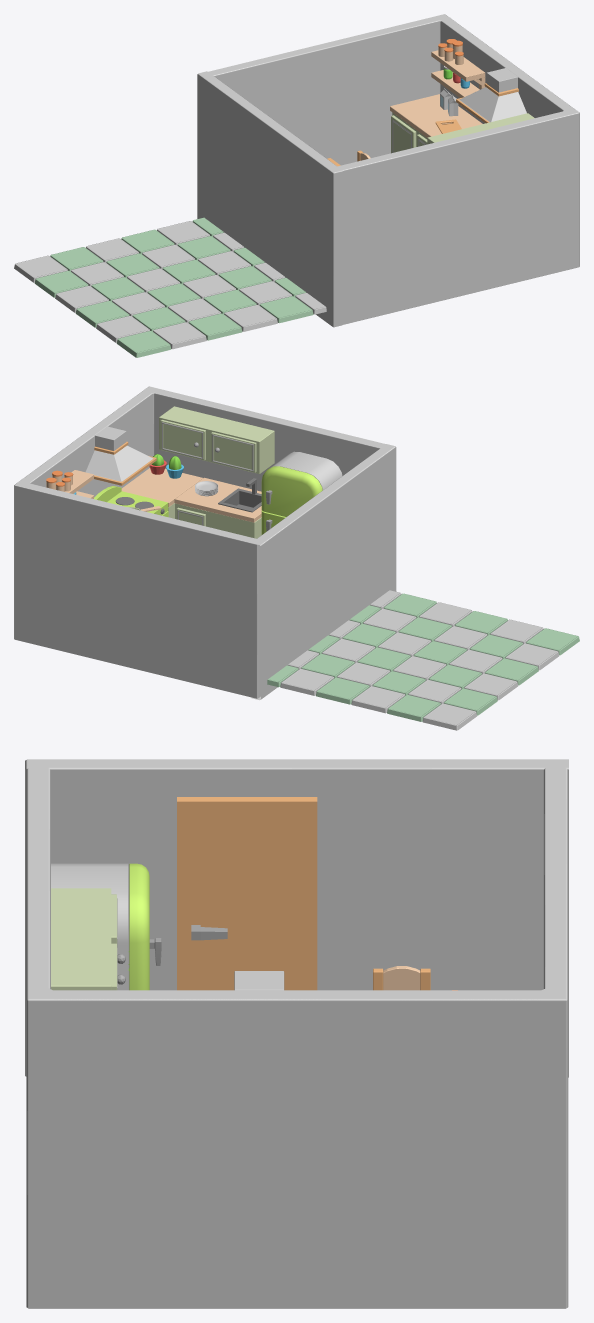
The model's file is Kitchen.gltf.
3 renders of one model, top to bottom at view 1: azimuth 30°, elevation 25°; view 2: azimuth 150°, elevation 25°; view 3: azimuth 270°, elevation 25°, orthographic. The views are drawn at different scales.
Visible parts, largest first — view 1: Wall, Floor tile, Wall.002, Wall.001, Counter, Hood, Wall shelf, Hang shelf.001, Wood jar, Hang shelf; view 2: Wall.001, Floor tile, Wall.002, Wall, Wall shelf, Fridge, Counter with sink, Hood, Counter corner, Stove, Wood jar; view 3: Wall, Wall.001, Wall.002, Cube, Wall shelf, Fridge, Chair.001, Hood.
Boxes of the visible parts, box(x1,y1,x2,y2) form: Wall: box(332, 18, 579, 324); Floor tile: box(14, 217, 326, 357); Wall.002: box(197, 71, 342, 327); Wall.001: box(208, 14, 572, 165); Counter: box(390, 94, 482, 153); Hood: box(456, 68, 526, 123); Wall shelf: box(427, 113, 534, 144); Hang shelf.001: box(431, 50, 485, 89); Wood jar: box(438, 39, 463, 64); Hang shelf: box(431, 70, 479, 97); Wall.001: box(14, 391, 260, 698); Floor tile: box(267, 590, 579, 730); Wall.002: box(250, 444, 396, 700); Wall: box(24, 386, 391, 497); Wall shelf: box(159, 406, 274, 473); Fridge: box(261, 451, 342, 534); Counter with sink: box(174, 477, 261, 538); Hood: box(85, 426, 156, 485); Counter corner: box(121, 468, 202, 518); Stove: box(94, 486, 168, 517); Wood jar: box(46, 470, 73, 491); Wall: box(26, 762, 540, 1308); Wall.001: box(53, 767, 568, 1308); Wall.002: box(25, 759, 568, 1077); Cube: box(177, 797, 317, 990); Wall shelf: box(51, 888, 125, 990); Fridge: box(51, 863, 161, 990); Chair.001: box(373, 966, 430, 990); Hood: box(234, 971, 284, 990).
Size of the model in its own units: 14.77 by 5.01 by 7.95.
